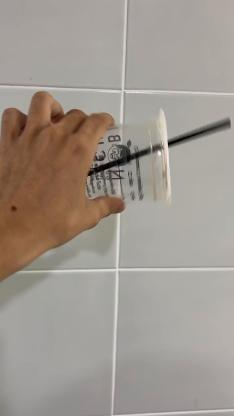Plastic Cup: (78, 109, 172, 207)
